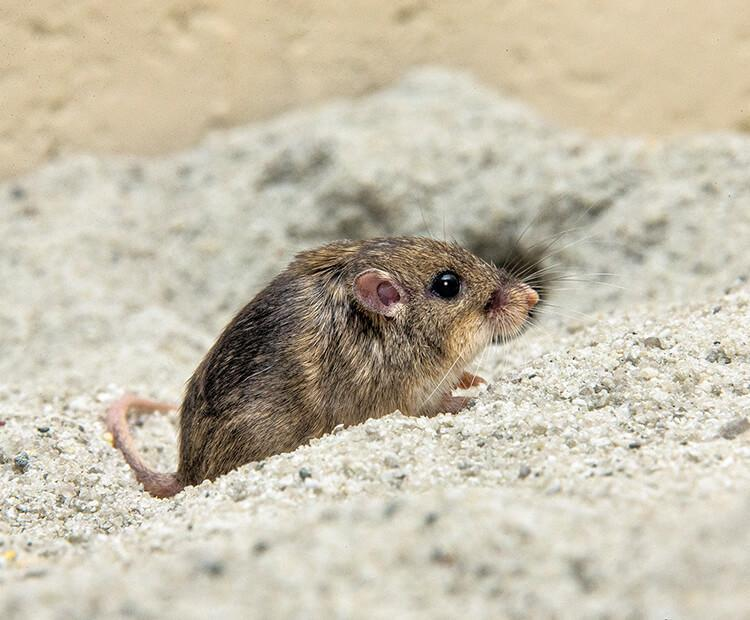rat: (104, 242, 540, 498)
